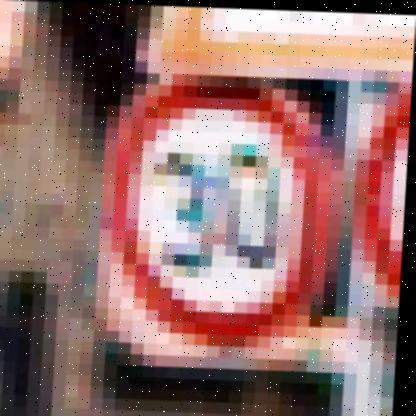Speed Limit -30-: (93, 72, 344, 348)
